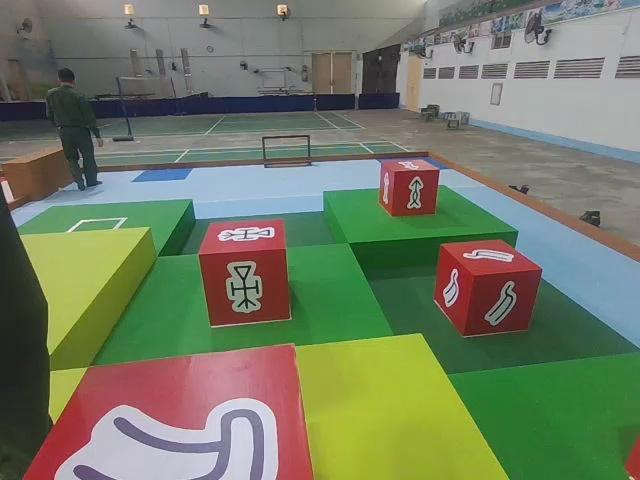R2 Fake: (23, 341, 316, 480)
R2 Real: (435, 238, 542, 337), (197, 218, 292, 327), (379, 157, 441, 220)
